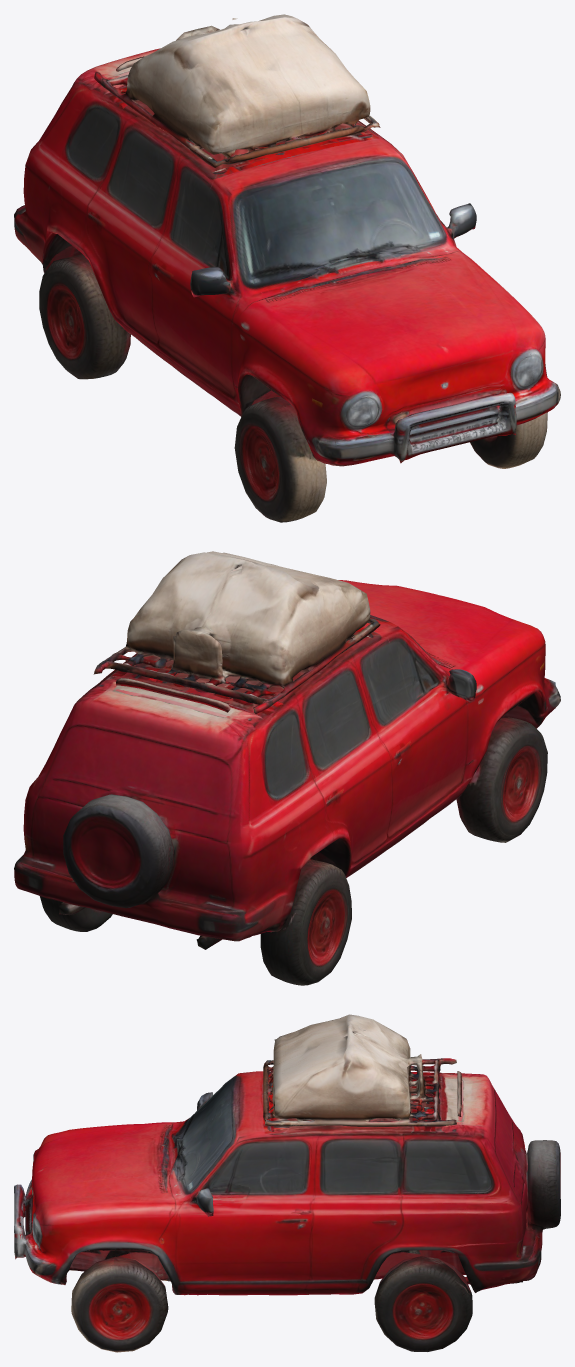
File: aiCar.glb
The picture shows the model from 3 angles, top to bottom: view 1: azimuth 30°, elevation 25°; view 2: azimuth 150°, elevation 25°; view 3: azimuth 270°, elevation 25°; orthographic projection. The views are drawn at different scales.
Bounding box in the file's own units: 0.9291 × 1.12 × 2.
1 material, 1 textured.
